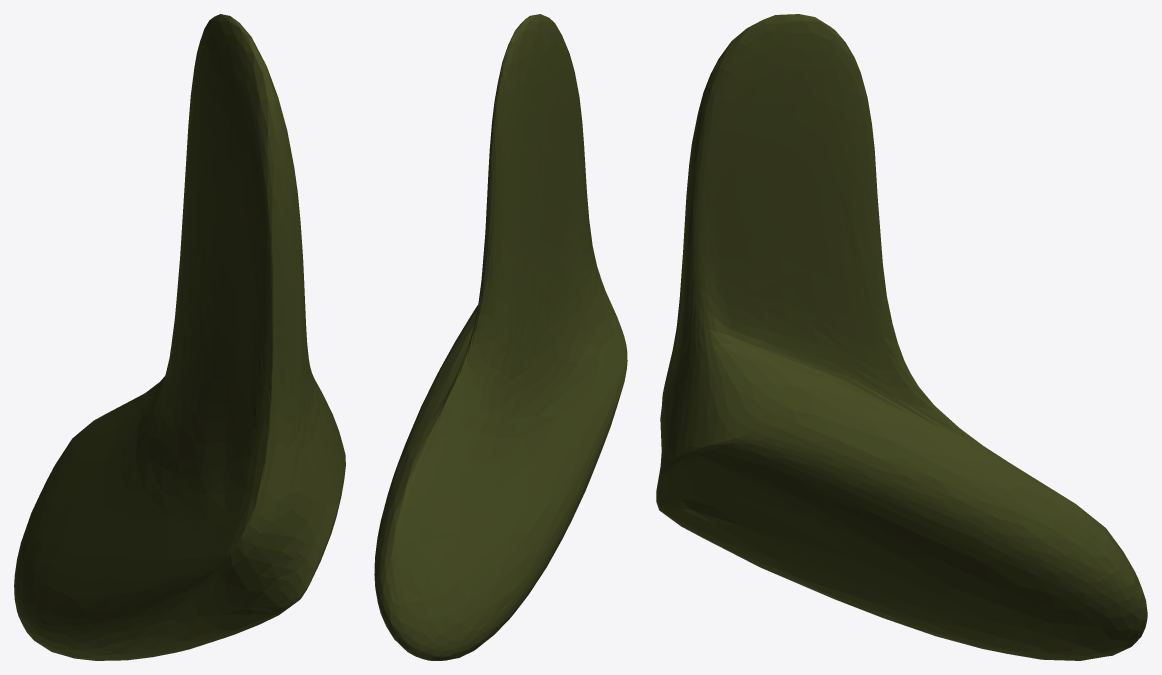
3 views of the same model, side by side, from view 1: azimuth 30°, elevation 25°; view 2: azimuth 150°, elevation 25°; view 3: azimuth 270°, elevation 25° (orthographic). The views are drawn at different scales.
Parts seen in each view (by area): view 1: 412_Cube.1674; view 2: 412_Cube.1674; view 3: 412_Cube.1674.
Part boxes in pixels (bbox=[...]): 412_Cube.1674: bbox=[14, 14, 345, 660]; 412_Cube.1674: bbox=[374, 14, 627, 660]; 412_Cube.1674: bbox=[656, 14, 1147, 660].
Bounding box in the file's own units: 3.57 × 15.03 × 10.03.
